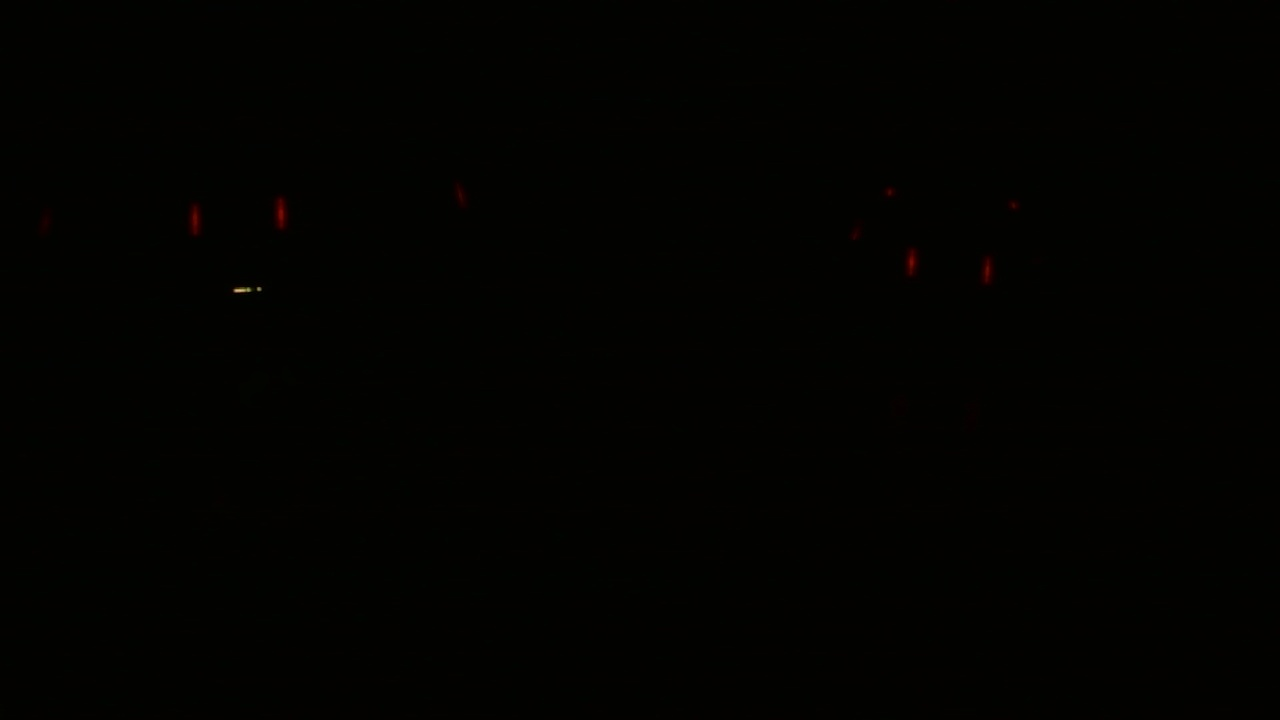pair1: (175, 184, 303, 251)
pair2: (899, 240, 1000, 299)
